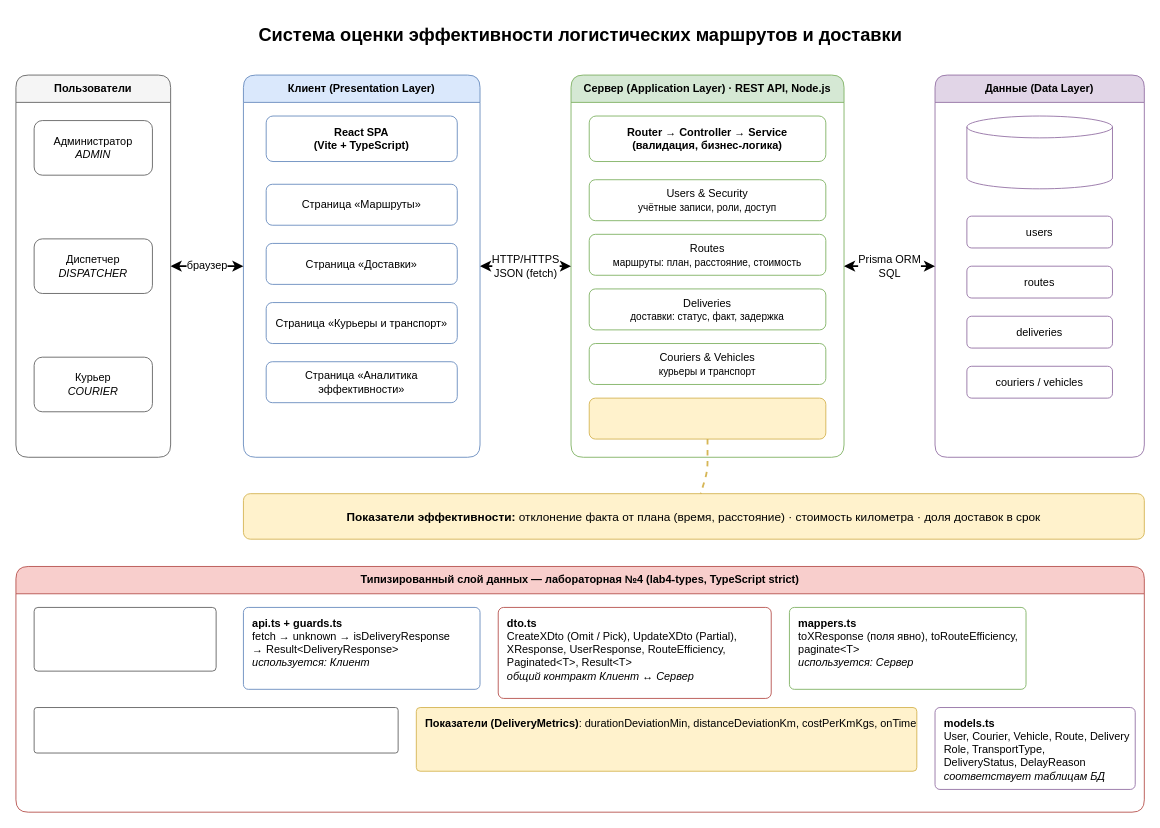
Some shapes in this 1160 by 828 pixel diagram are drawn without their labels. The shapes that lost their labels are listed below. From the top down, each one's centre as x and y in pixels, then its label:
[1039,152]: PostgreSQL + Prisma ORM
[707,418]: Efficiency Analytics расчёт показателей эффективности
[124,639]: Роли в типах Role = ADMIN | DISPATCHER | COURIER
[215,730]: main.ts — демонстрация на тестовых данных (npm run dev), без БД и сервера
